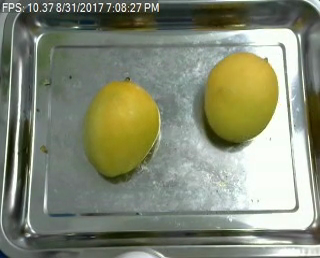Mango: (84, 81, 159, 177), (205, 52, 279, 142)
